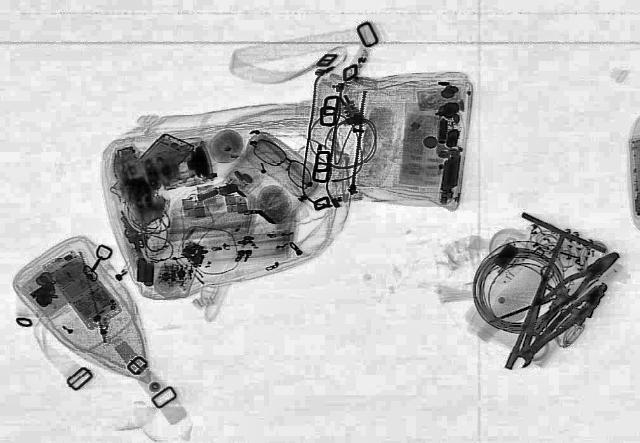Pliers: (512, 247, 628, 329)
Wrench: (508, 265, 560, 367)
